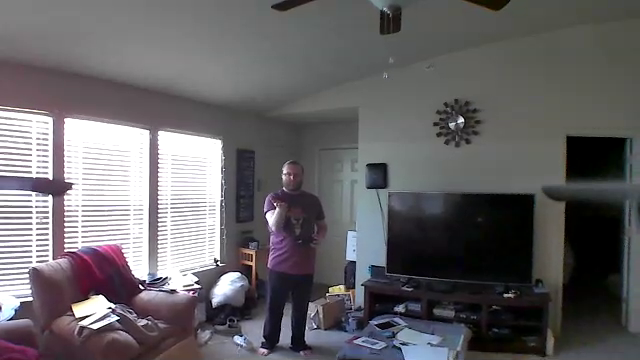land: (269, 196, 289, 214)
